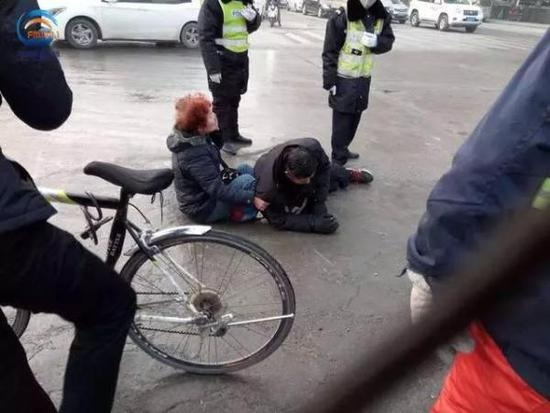falling: (247, 127, 376, 238)
